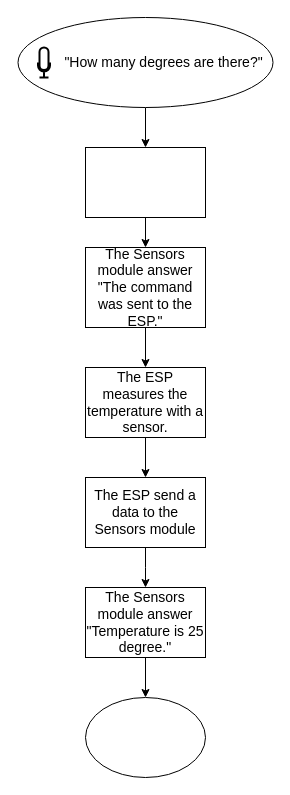
Some shapes in this 290 by 795 pixel diagram are drawn without their labels. Each missing label, with the centre of its shape:
END: pixel 145 737
The Sensors module send the command to the ESP: pixel 145 182
